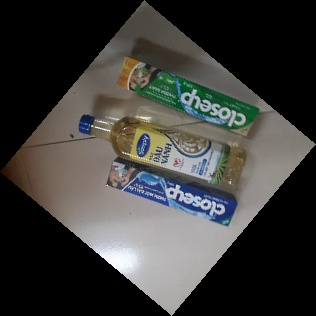CloseUp Tuyet: (105, 158, 239, 227)
CloseUp Xanh: (115, 54, 261, 137)
Simply: (79, 113, 246, 193)
